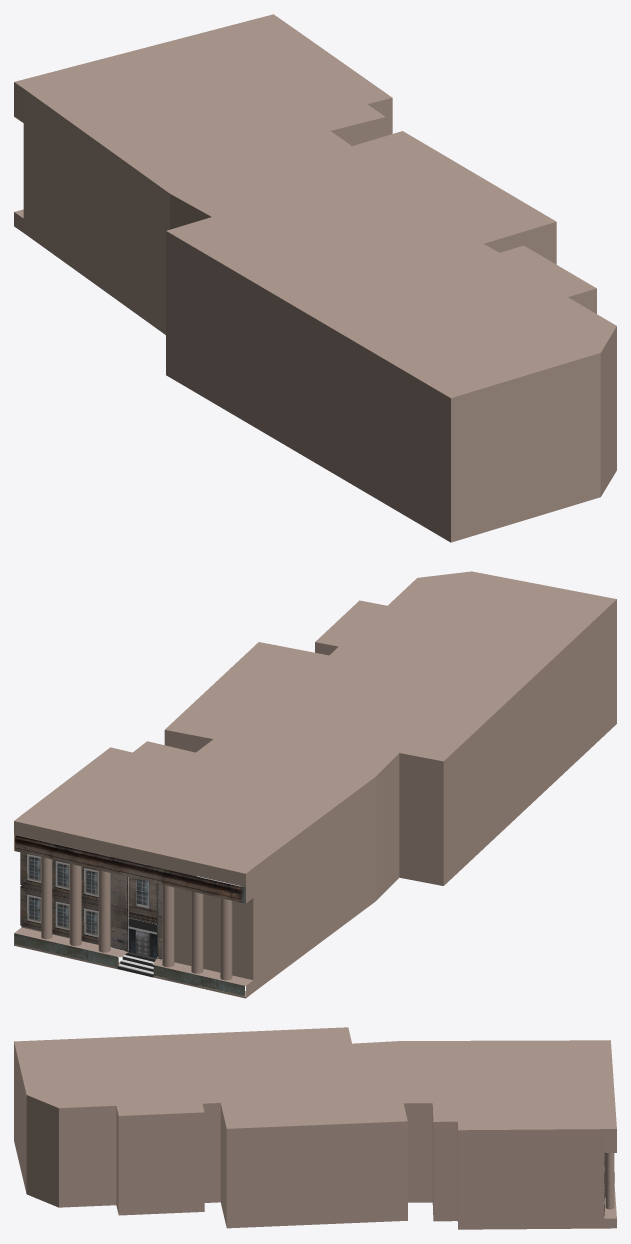
The model's file is Cutlers Hall.fbx.
The picture shows the model from 3 angles, top to bottom: view 1: azimuth 30°, elevation 25°; view 2: azimuth 150°, elevation 25°; view 3: azimuth 270°, elevation 25°; orthographic projection. The views are drawn at different scales.
Visible parts, largest first — view 1: Cutlers' Hall; view 2: Cutlers' Hall; view 3: Cutlers' Hall.
Part boxes in pixels (x1,y1,x2,y2): Cutlers' Hall: [14, 14, 616, 542]; Cutlers' Hall: [14, 571, 616, 998]; Cutlers' Hall: [14, 1027, 616, 1229].
Size of the model in its own units: 3154 by 1421 by 7810.
